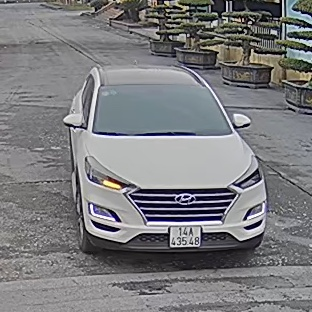vehicle plate: (168, 222, 202, 248)
